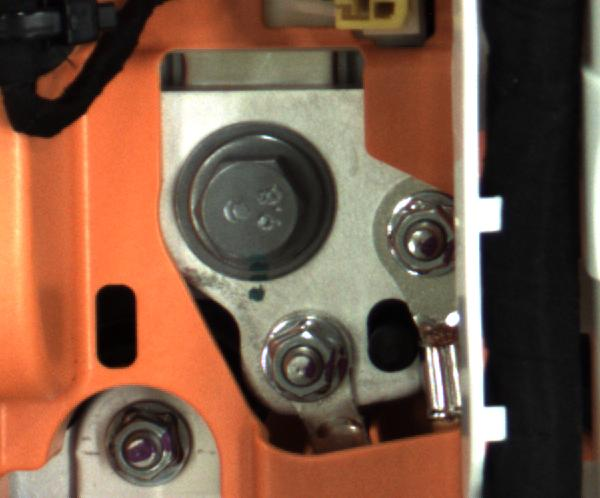nut_b: (168, 121, 338, 279)
screw_s: (244, 312, 341, 399), (383, 190, 464, 287), (100, 413, 196, 483)
